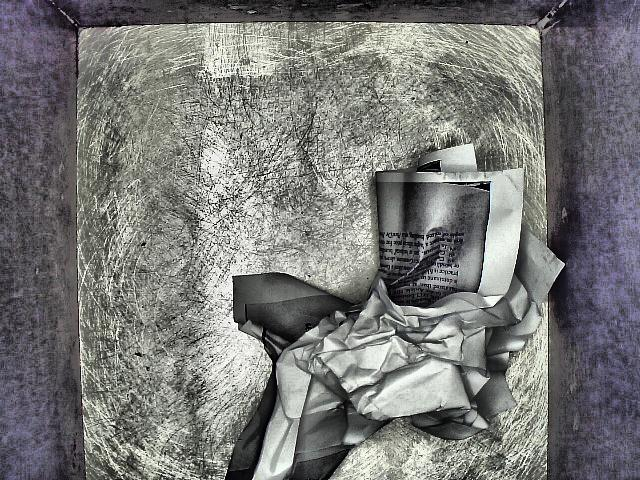Paper: (199, 137, 574, 480)
